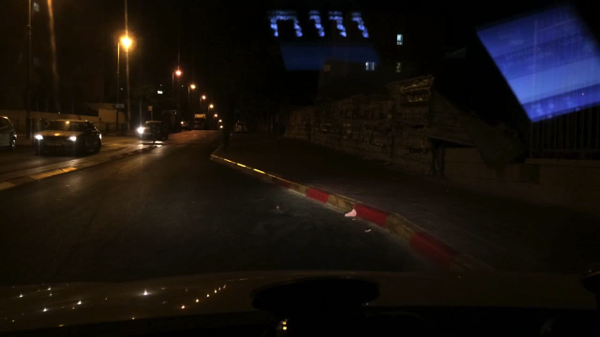car: (34, 118, 103, 157), (0, 114, 18, 153), (140, 120, 171, 140), (233, 122, 251, 134), (179, 117, 194, 130)
person: (220, 124, 232, 151), (277, 118, 286, 141), (272, 118, 278, 138)
traffic sign: (115, 103, 125, 110), (147, 104, 154, 113)
truck: (159, 109, 180, 133), (192, 113, 207, 130)
